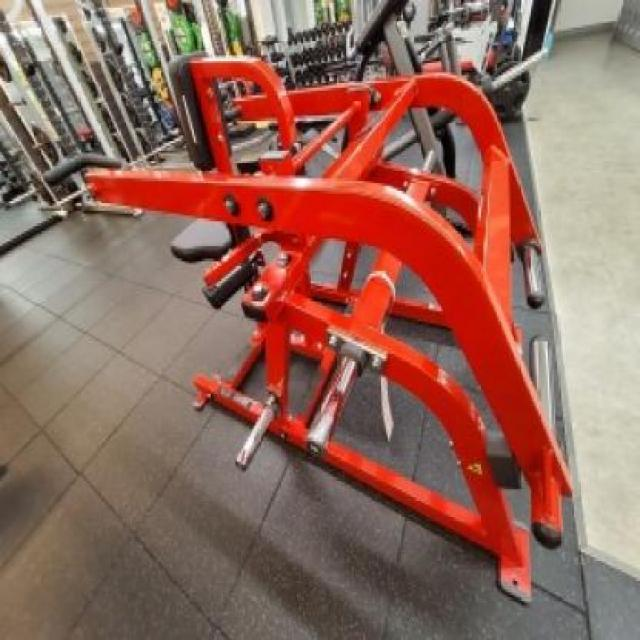seated dip machine: (40, 54, 575, 608)
